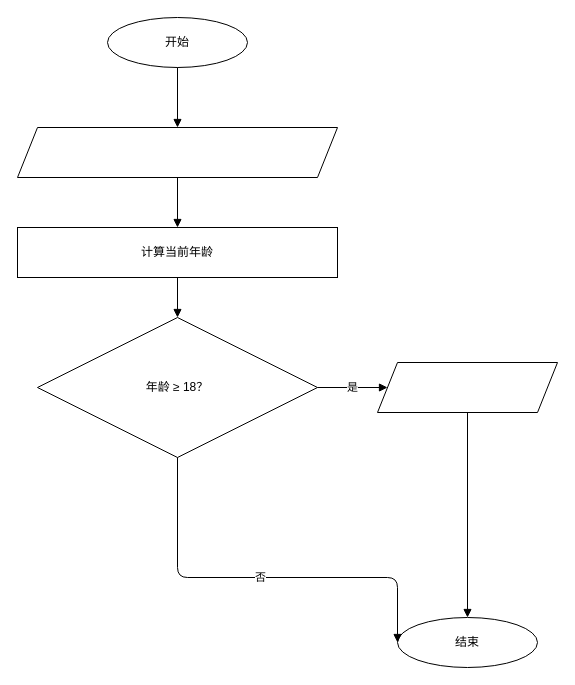
The diagram is 575 pixels wide and 685 high, and some of its shapes have lost their labels. The centre of each missing label's shape, as x and y in pixels:
输入出生年份: point (177, 152)
输出 "是成年人!": point (467, 387)
